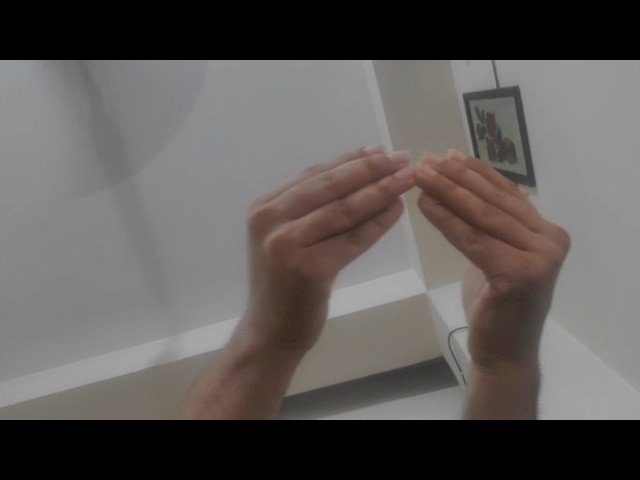Thank you: (216, 132, 582, 382)
